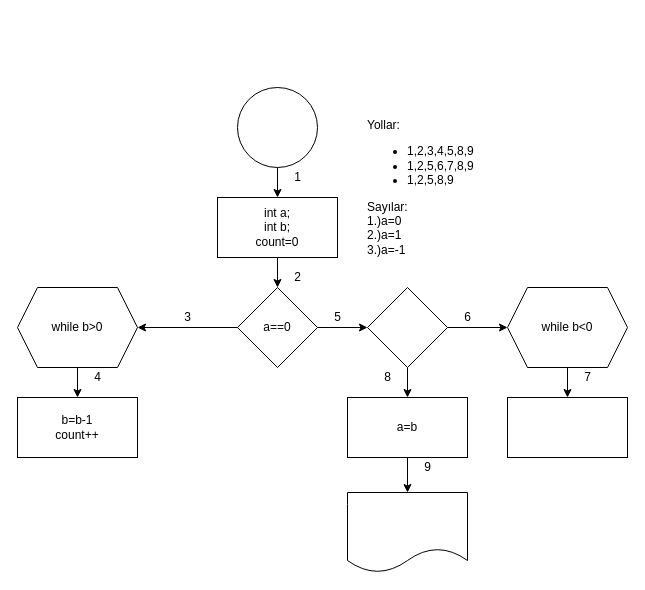
Some shapes in this 645 by 590 pixel diagram are drawn without their labels. The shapes that lost their labels are listed below. From the top down, each one's centre as x and y in pixels, then its label:
[407,327]: a>0
[567,427]: b=b+1 count--
[407,532]: output,a,b,count
